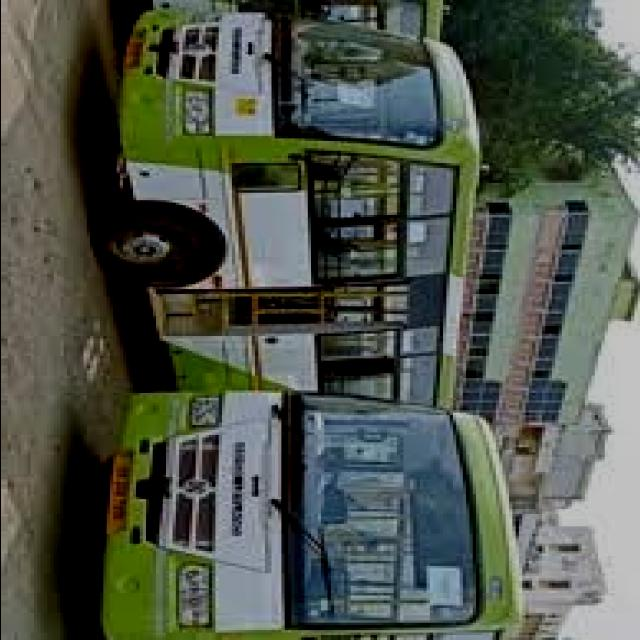bus: (109, 9, 499, 407), (79, 390, 532, 640)
